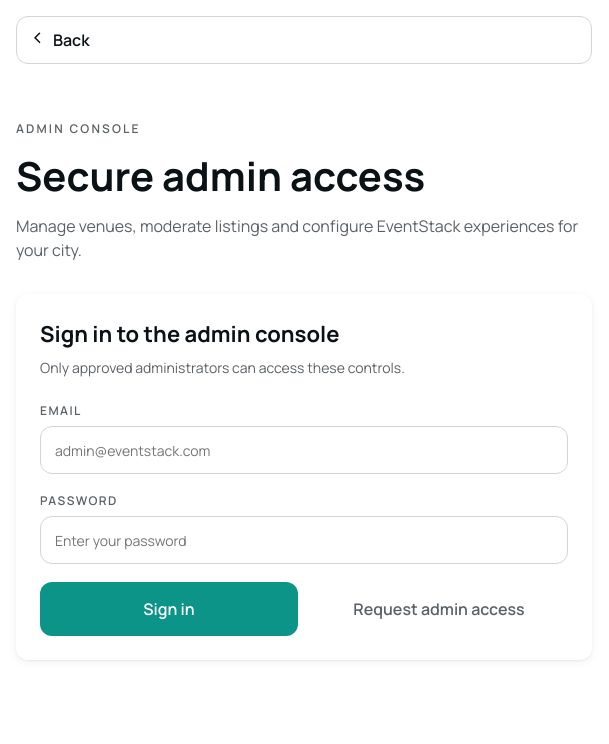
routes/admin/AdminLogin › shows error when login fails
In the field labelled "Email": (304, 450) [40,426,568,474], type "admin@test.dev"
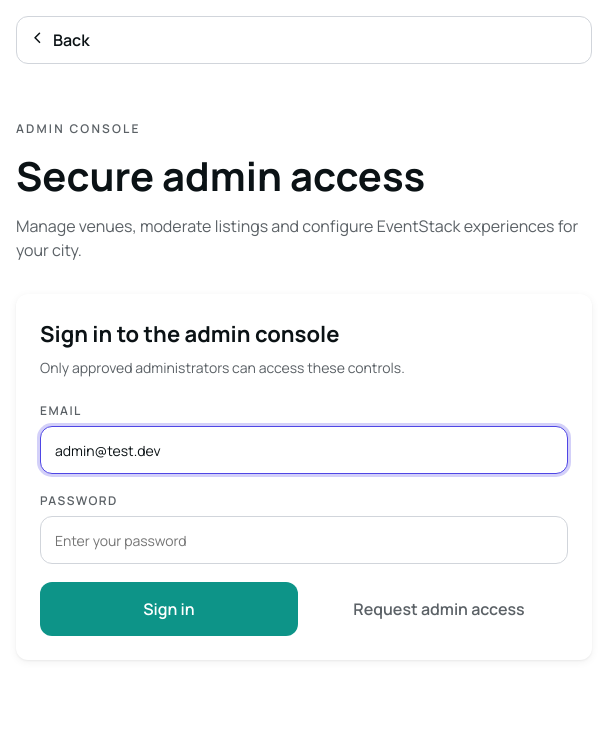
In the password field labelled "Password": (304, 540) [40,516,568,564], type "badpass"
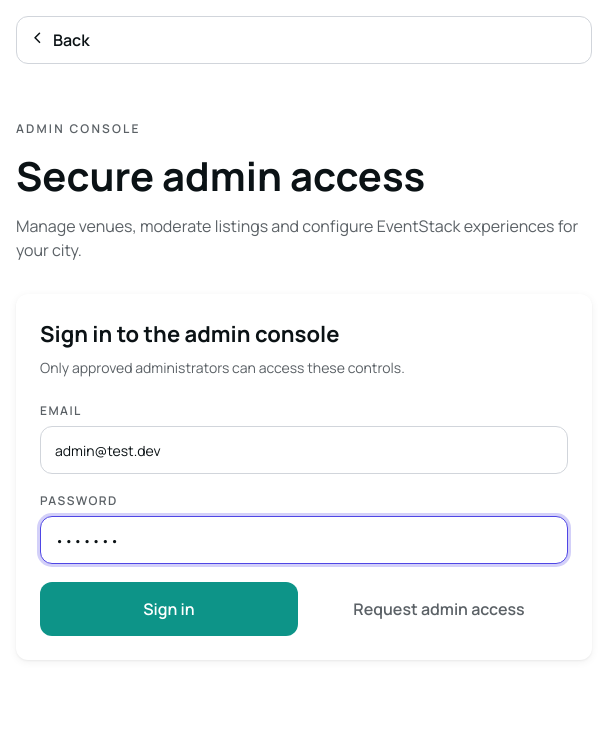
Click the button "Sign in": (169, 609) [40,582,298,636]
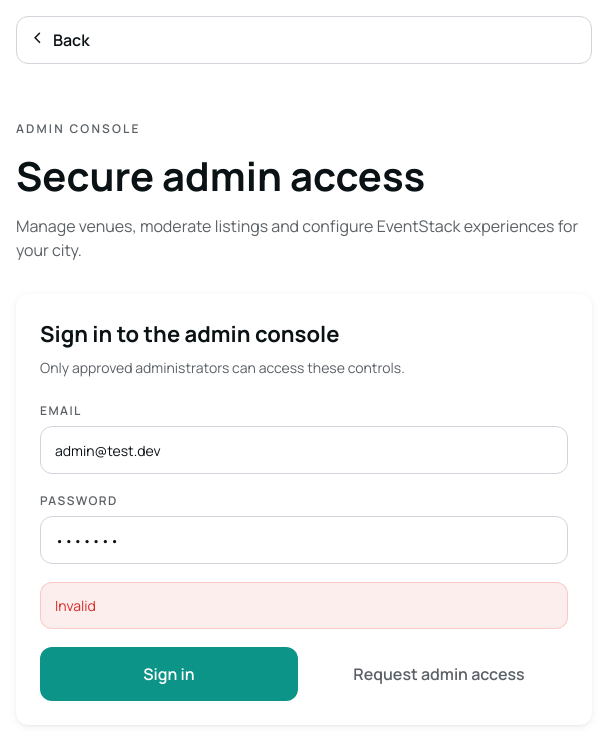
Expected: the message "Invalid" is shown, [40,582,568,629]
